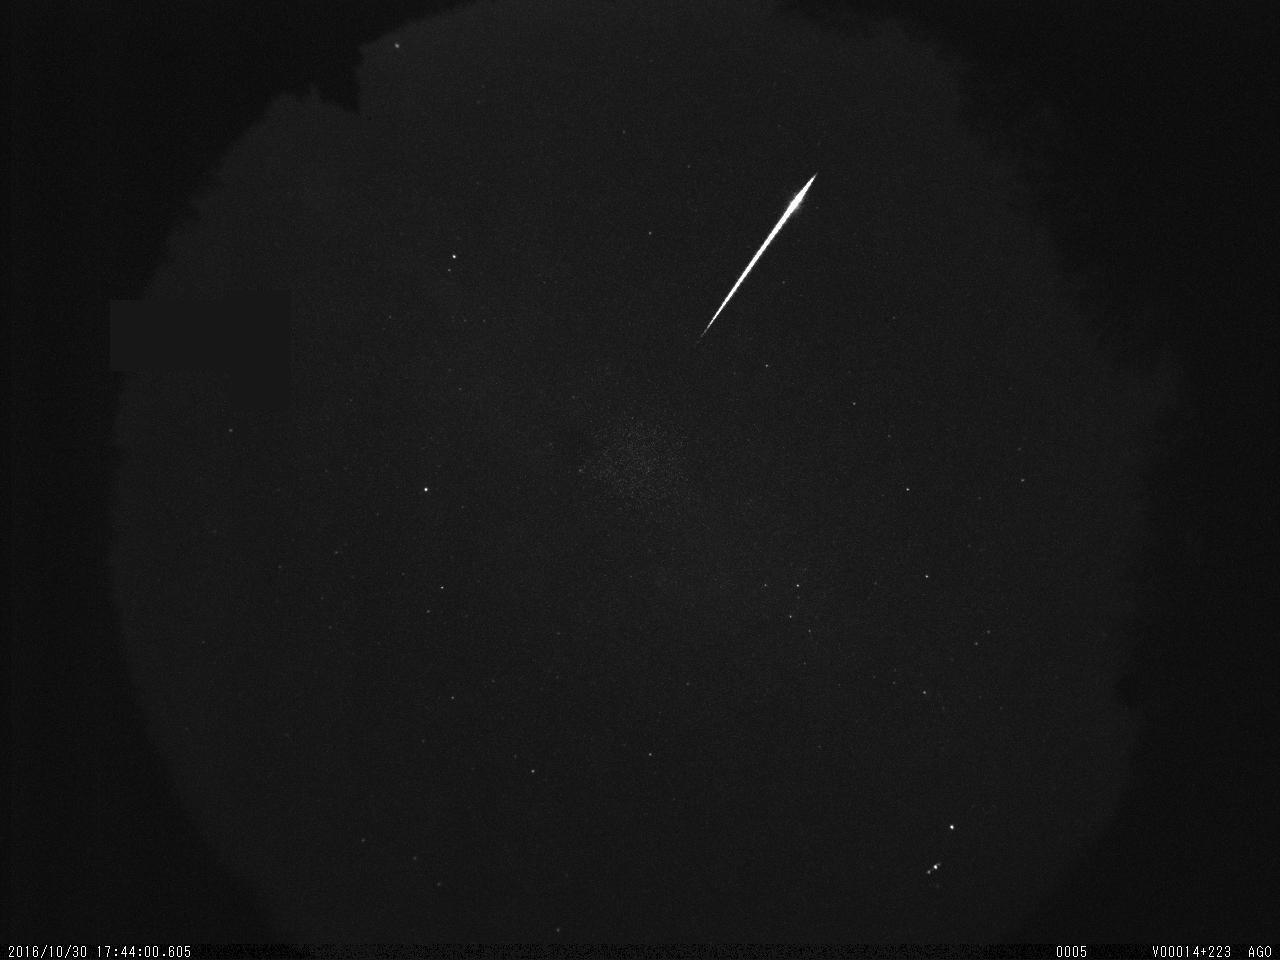meteor: (690, 166, 823, 350)
